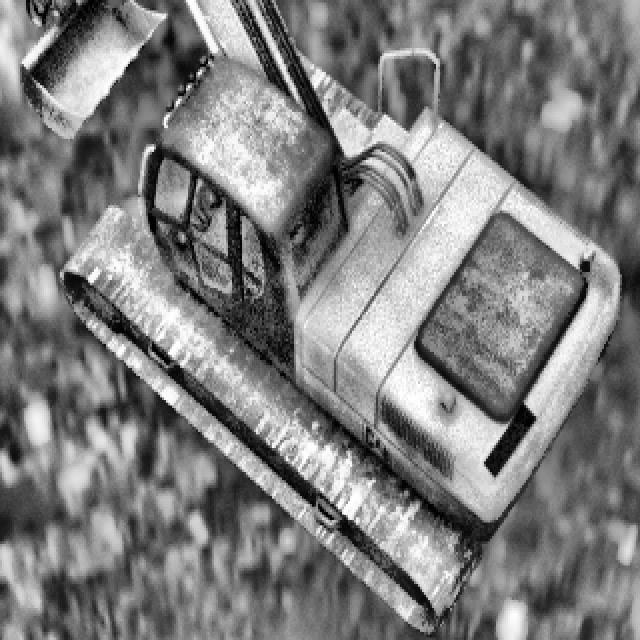excavator: (0, 0, 618, 637)
